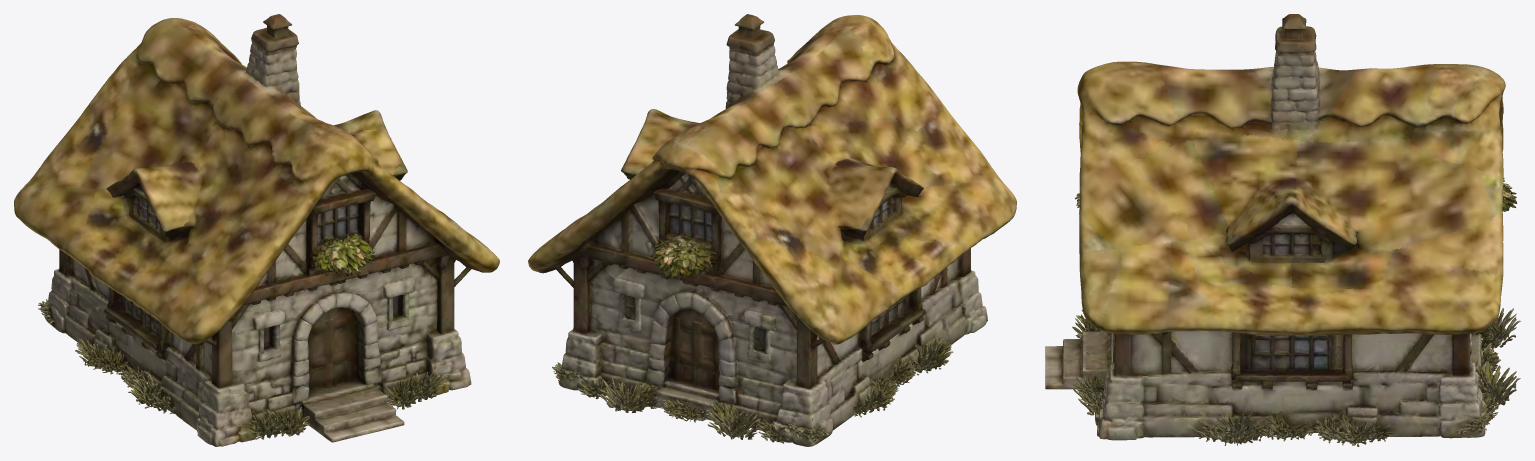
File: building 7.glb
The picture shows the model from 3 angles, left to right: view 1: azimuth 30°, elevation 25°; view 2: azimuth 150°, elevation 25°; view 3: azimuth 270°, elevation 25°; orthographic projection. The views are drawn at different scales.
Bounding box in the file's own units: 1.58 × 1.6 × 1.87.
1 material, 1 textured.
